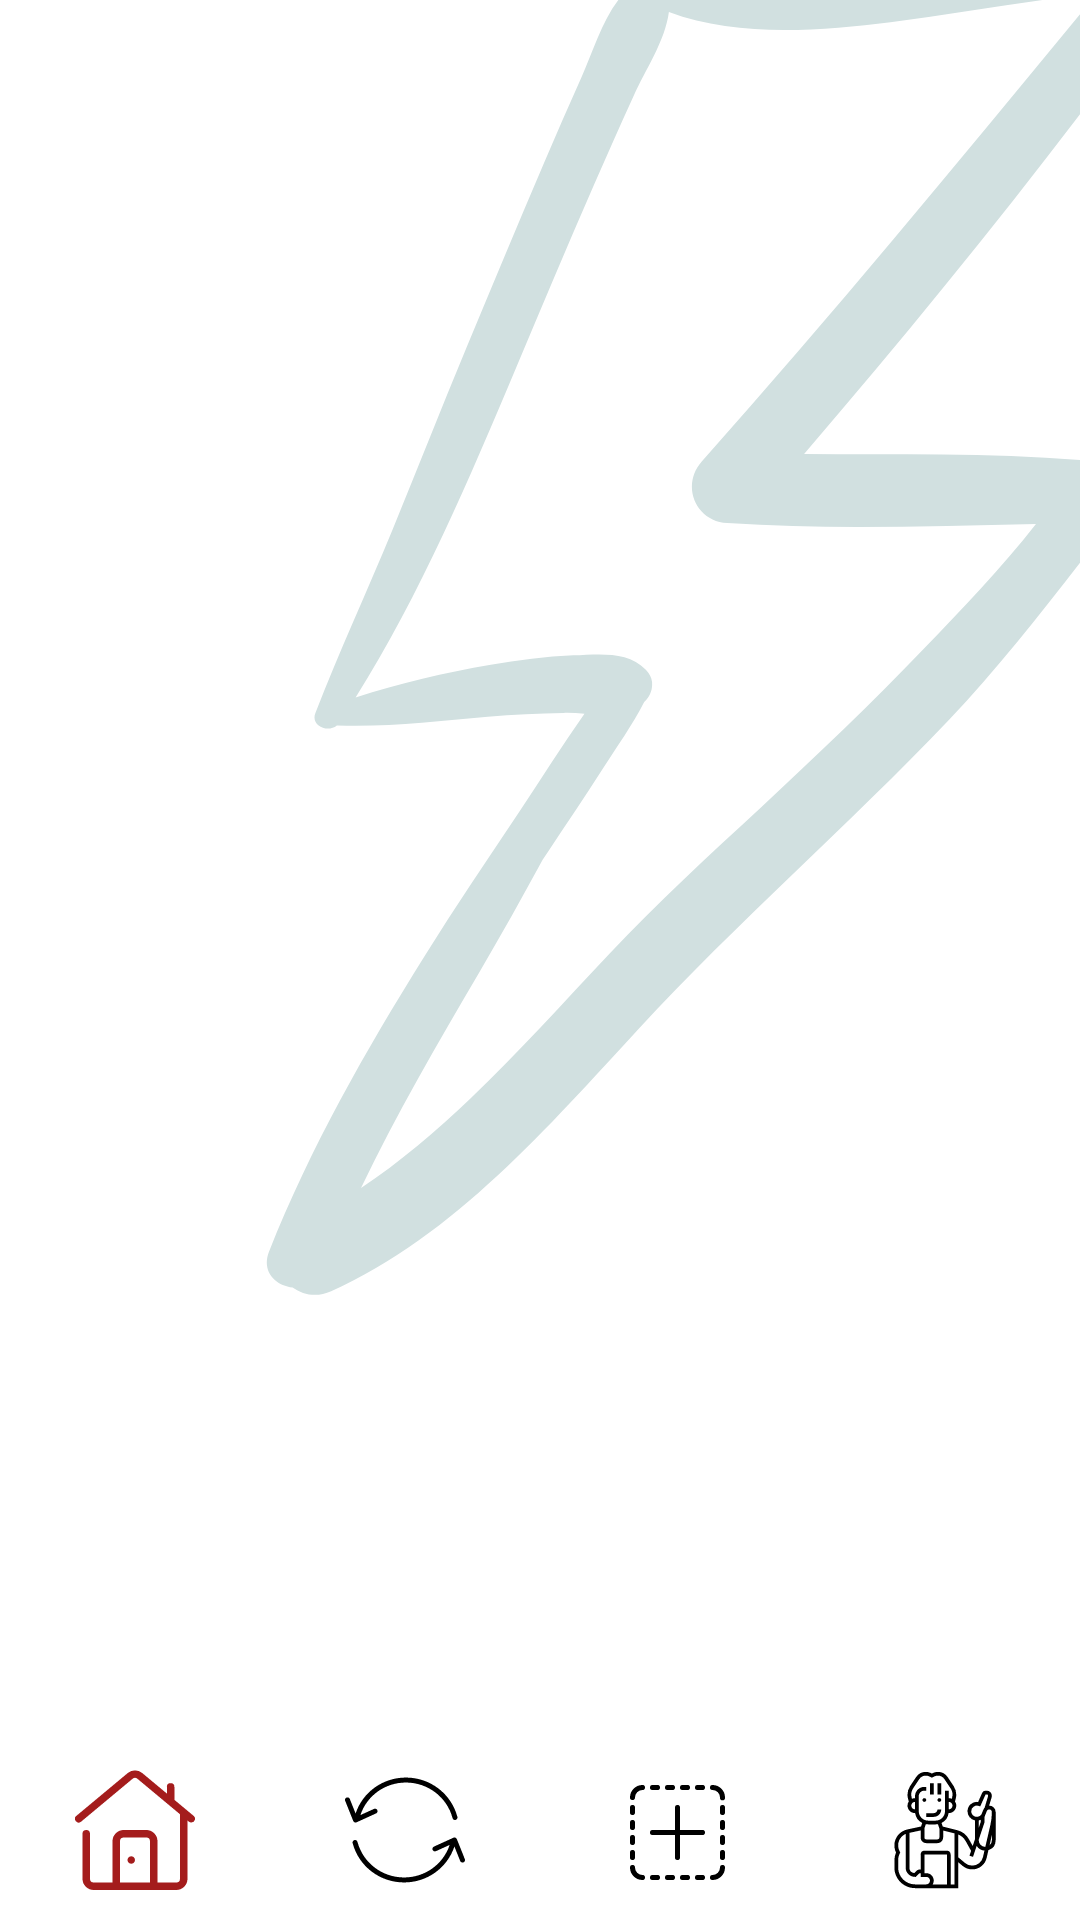

Point at icon controls on the screen. Image size 1080w x 1920h, points as point (x, y).
add: point (677, 1832)
change: point (405, 1830)
home: point (135, 1830)
trainer: point (945, 1830)
